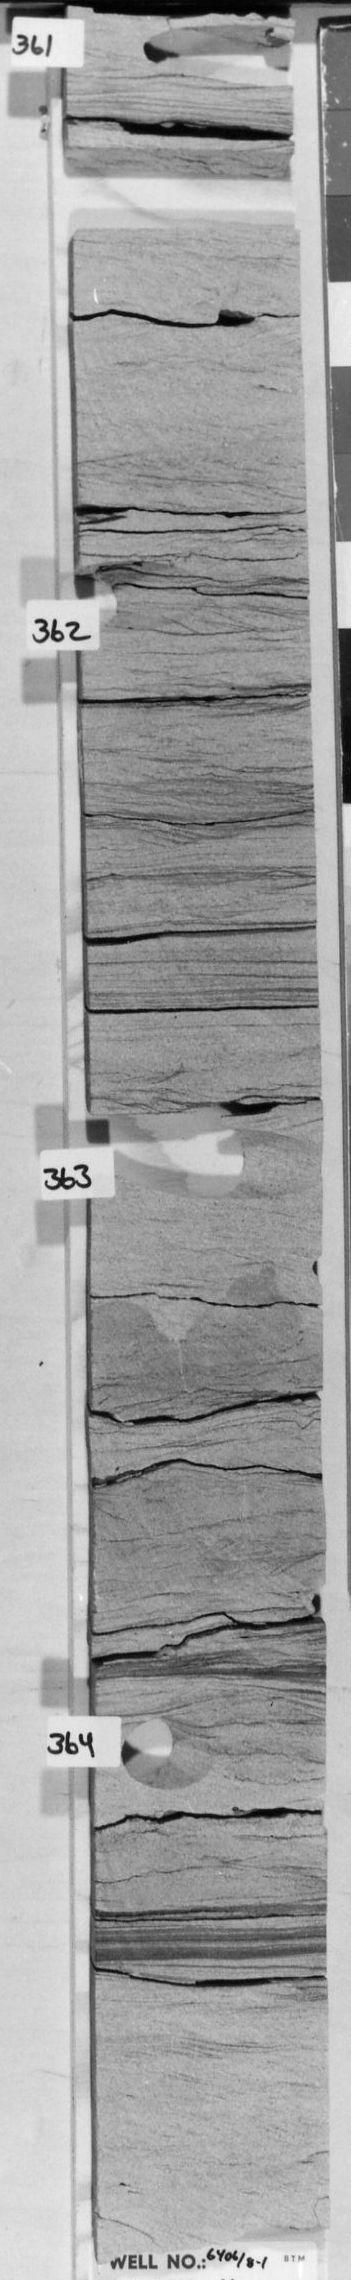hplug: (146, 1118, 320, 1205), (134, 20, 293, 92), (77, 558, 207, 634), (119, 1711, 223, 1793)
scal: (67, 134, 297, 241)
